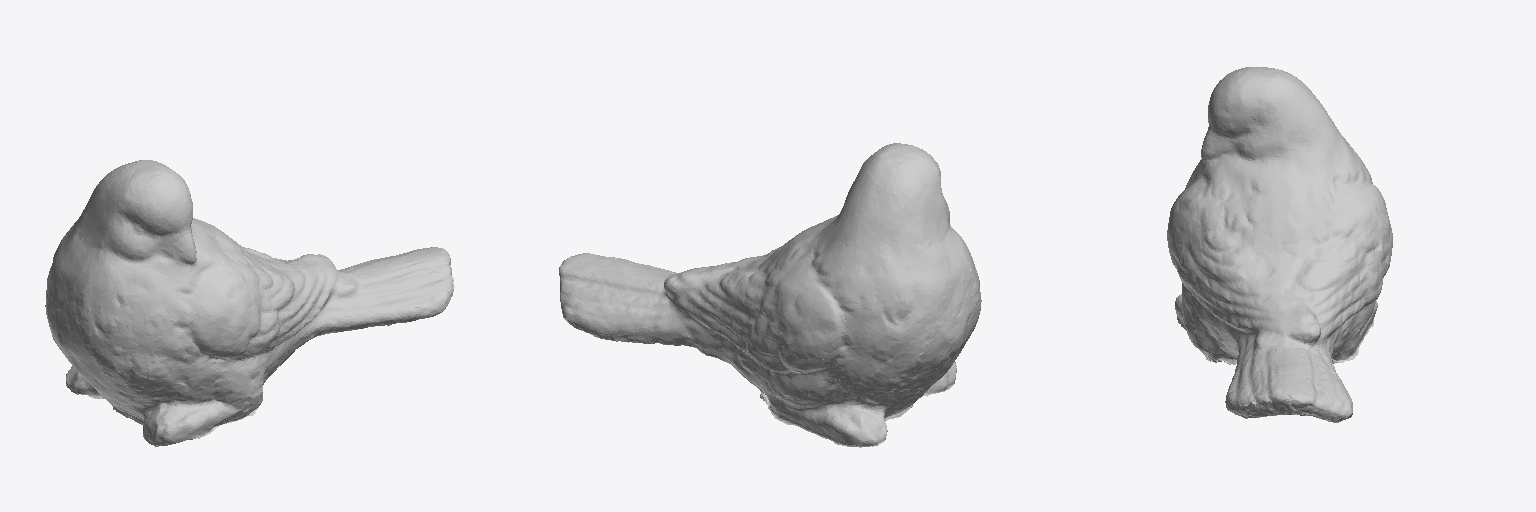
The model's file is bird.obj.
The picture shows the model from 3 angles: view 1: azimuth 30°, elevation 25°; view 2: azimuth 150°, elevation 25°; view 3: azimuth 270°, elevation 25°; orthographic projection.
Visible parts, largest first — view 1: Birds_grey; view 2: Birds_grey; view 3: Birds_grey.
Part boxes in pixels (left/top/right/bottom): Birds_grey: left=45, top=160, right=454, bottom=446; Birds_grey: left=559, top=143, right=981, bottom=447; Birds_grey: left=1167, top=67, right=1392, bottom=422.
Size of the model in its own units: 1.79 by 1.1 by 0.8897.